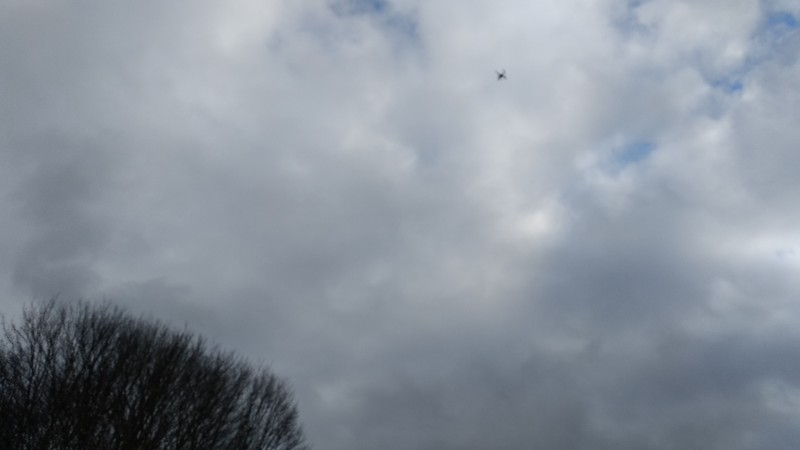drone: (495, 68, 506, 80)
